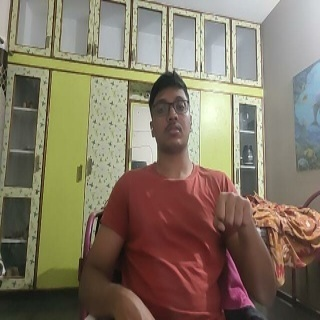Face: (149, 71, 194, 157)
Yes: (214, 191, 255, 243)
